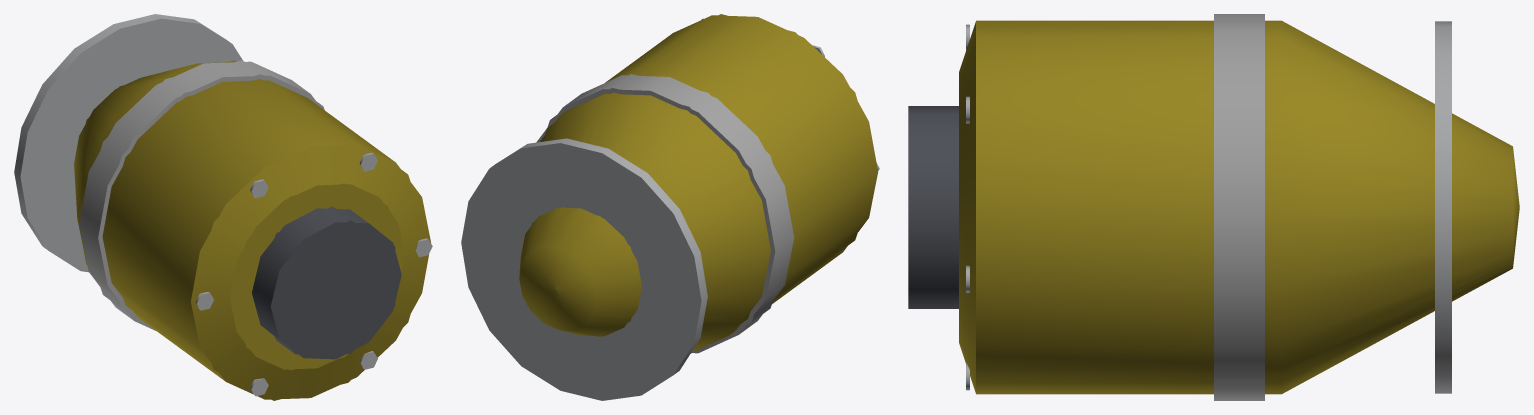
File: mn_shaped.glb
The picture shows the model from 3 angles, left to right: view 1: azimuth 30°, elevation 25°; view 2: azimuth 150°, elevation 25°; view 3: azimuth 270°, elevation 25°; orthographic projection. The views are drawn at different scales.
Parts seen in each view (by area): view 1: L0, L1; view 2: L0, L1; view 3: L0, L1.
Boxes of the visible parts, bbox=[...] form: L0: bbox=[14, 14, 432, 399]; L1: bbox=[85, 60, 410, 400]; L0: bbox=[461, 15, 879, 400]; L1: bbox=[526, 14, 857, 353]; L0: bbox=[908, 14, 1519, 400]; L1: bbox=[908, 15, 1519, 378].
Size of the model in its own units: 0.114 by 0.114 by 0.18.
